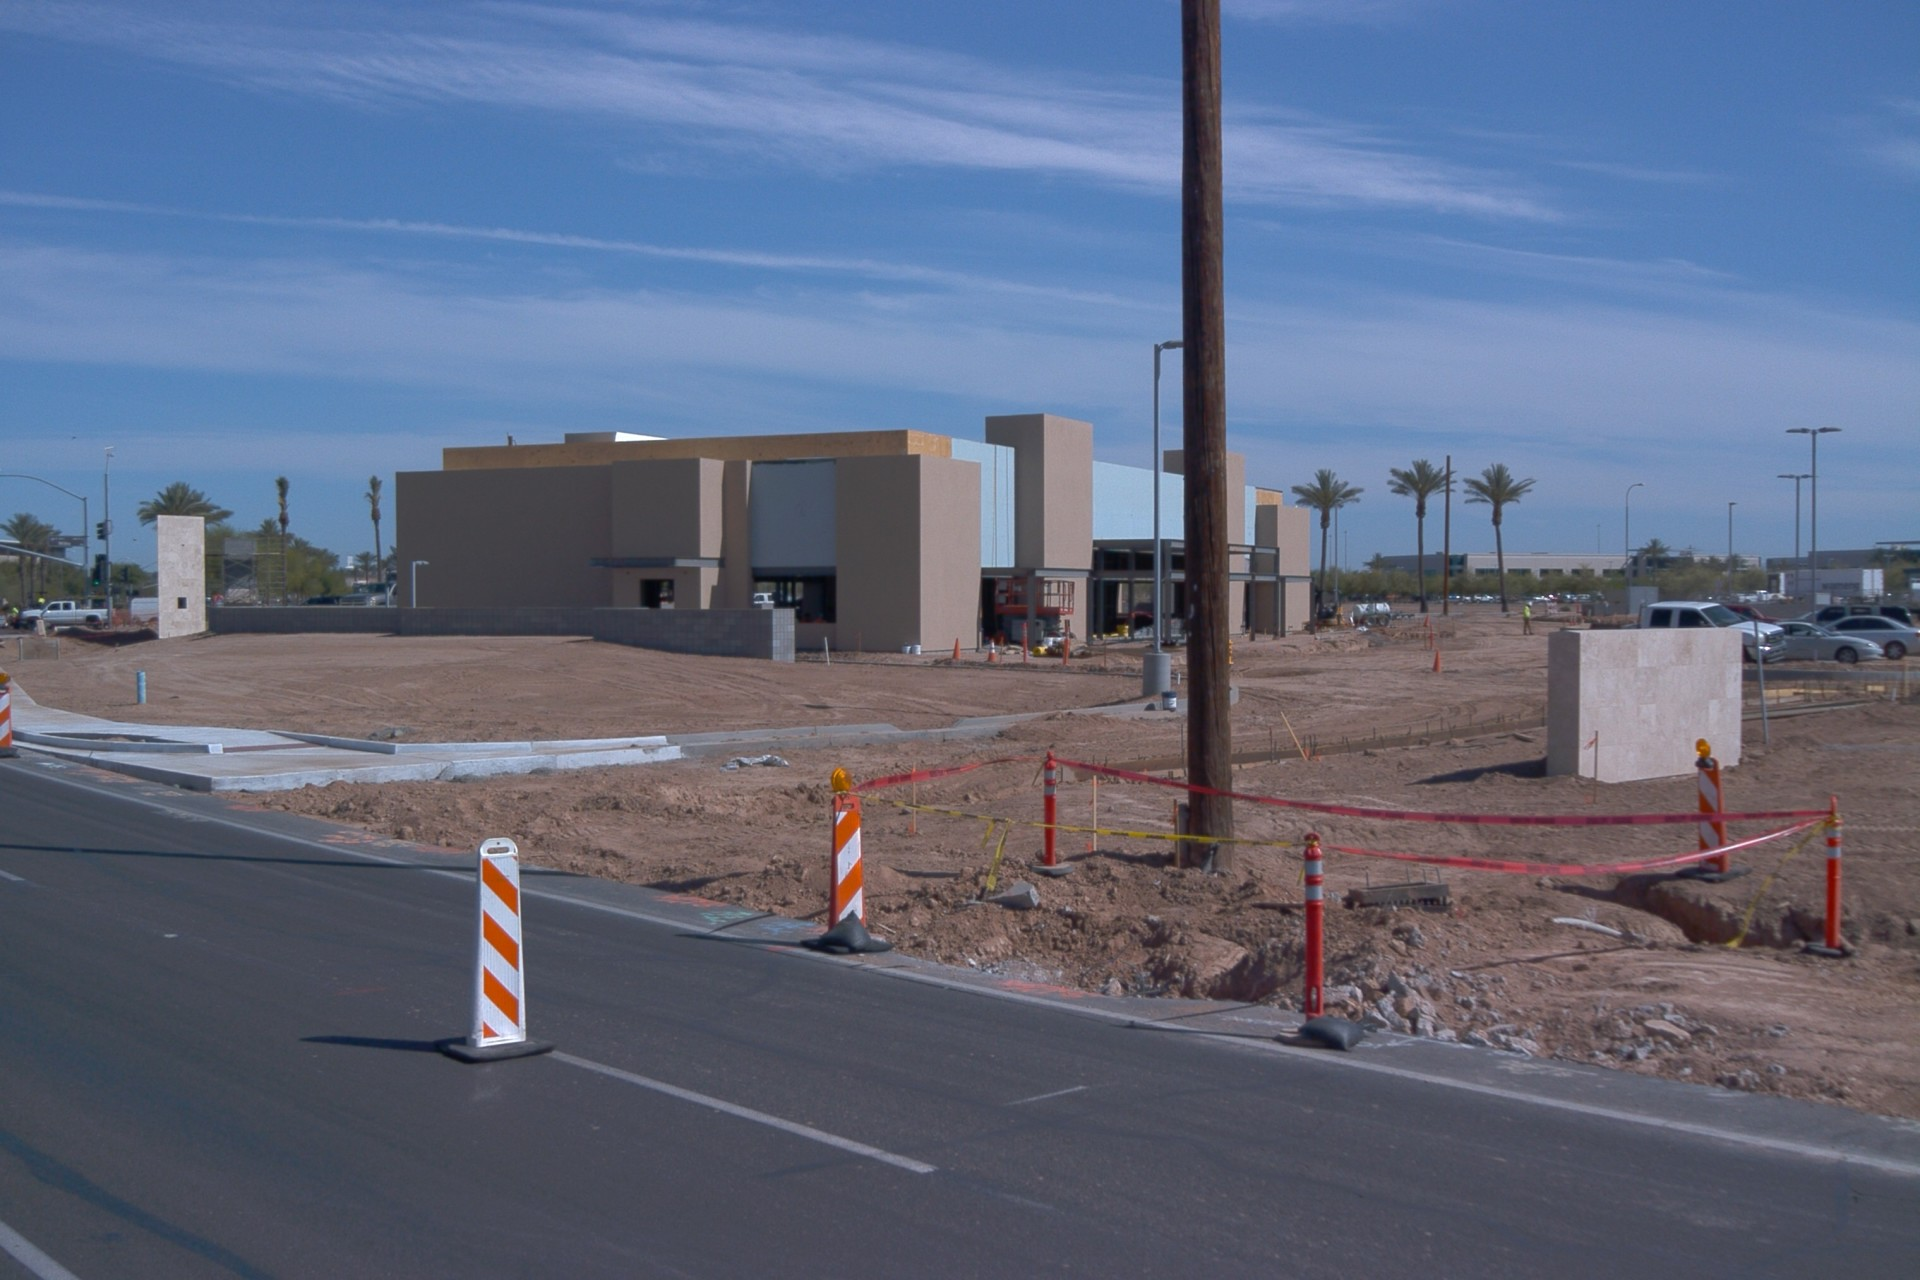TYPE_PEDESTRIAN: (1522, 598, 1539, 636), (13, 607, 22, 618)
TYPE_VEHICLE: (1560, 604, 1788, 668), (1774, 597, 1920, 637), (1772, 616, 1884, 665), (1820, 614, 1920, 662), (19, 599, 109, 632), (1348, 599, 1405, 630), (339, 579, 399, 607), (380, 543, 401, 597), (1726, 604, 1779, 625), (292, 591, 347, 608), (134, 595, 162, 627), (755, 591, 796, 608), (1910, 577, 1920, 624), (27, 590, 51, 609), (786, 597, 801, 621), (1472, 592, 1493, 604), (1461, 592, 1474, 604)
